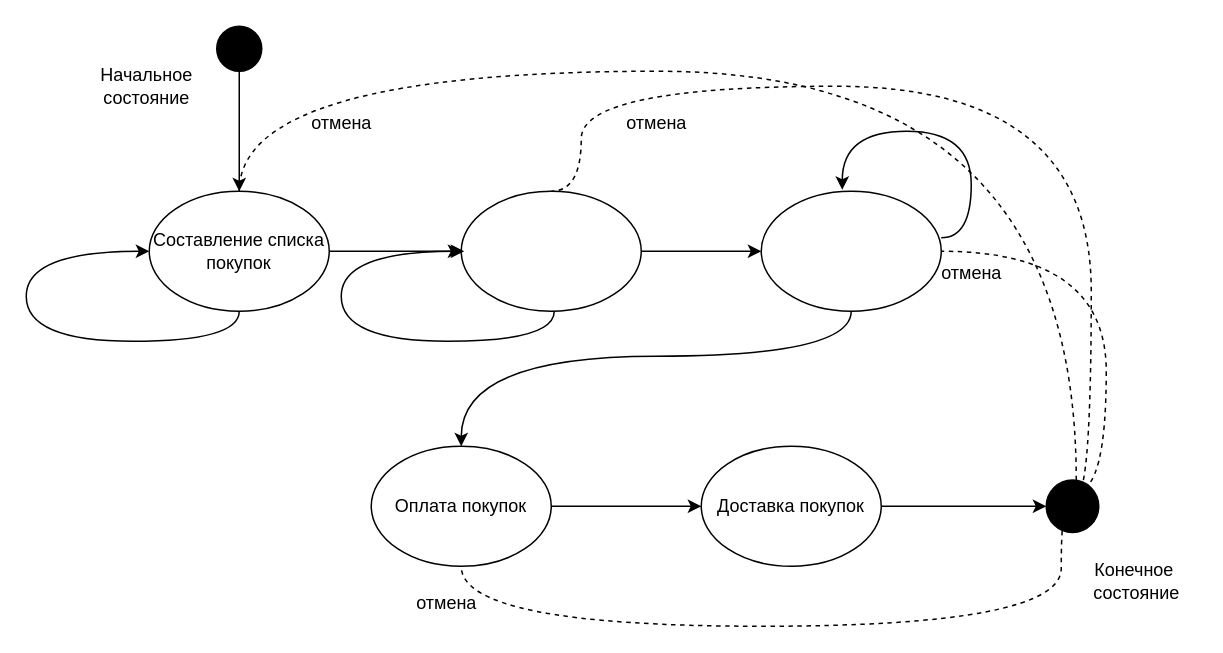
Image size: 1223x653. Some labels were removed from this diagram. The centre of each missing label's shape, as x and y in pixels:
"Выбор магазина" belongs at point 550,250.
"Выбор продуктов" belongs at point 850,250.
